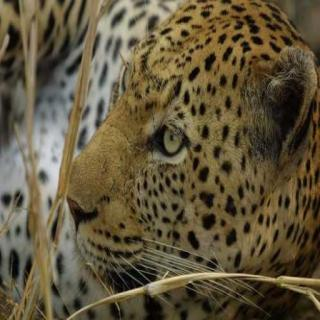Leopard: (30, 9, 320, 289)
